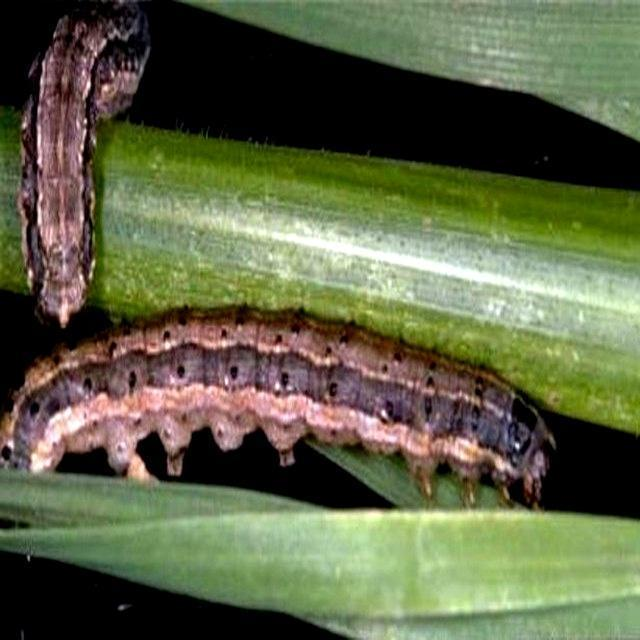gusano_cogollero: (1, 304, 552, 494), (15, 22, 110, 325)
